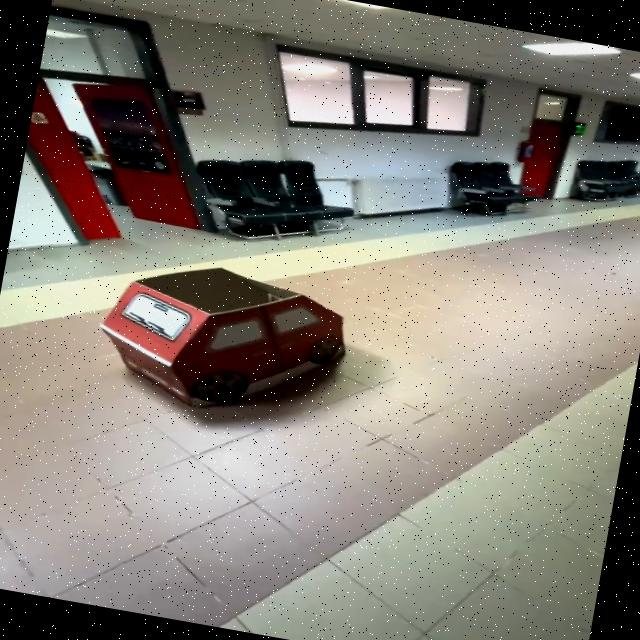red_car: (66, 242, 387, 442)
